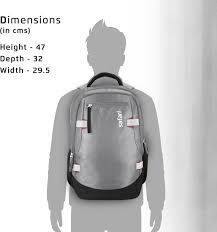backpack: (66, 72, 148, 200)
